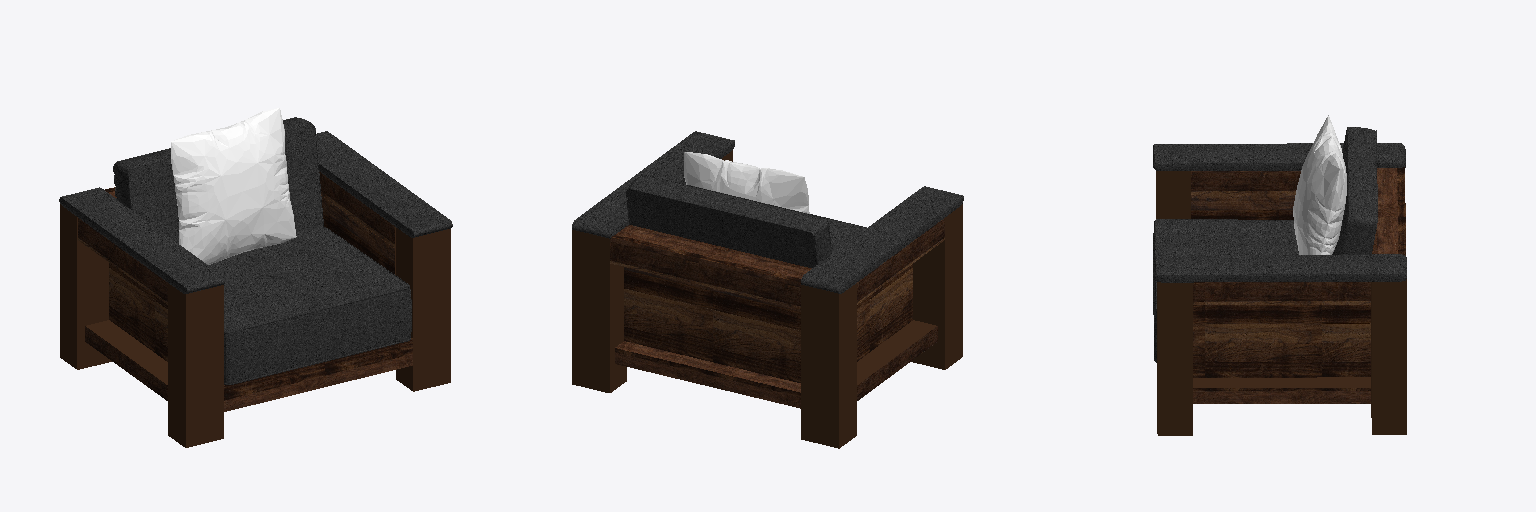
3 views of the same model, side by side, from view 1: azimuth 30°, elevation 25°; view 2: azimuth 150°, elevation 25°; view 3: azimuth 270°, elevation 25° (orthographic).
Parts seen in each view (by area): view 1: Mesh95_Cushion_Bottom_1_9_Group53_Group44_Group1_Model, Mesh99_Group55_Group44_Group1_Model, Mesh92_Group52_Group44_Group1_Model, Mesh89_Group50_Group44_Group1_Model, Mesh98_Cushion_Bottom_1_10_Group54_Group44_Group1_Model, Mesh84_Group46_Group45_Group44_Group1_Model, Mesh100_Group56_Group1_Model, Mesh83_Group43_Group1_Model, Mesh90_Group50_Group44_Group1_Model, Mesh88_Group51_Group50_Group44_Group1_Model, Mesh91_Group50_Group44_Group1_Model, Mesh87_Group49_Group45_Group44_Group1_Model (+1 smaller); view 2: Mesh92_Group52_Group44_Group1_Model, Mesh98_Cushion_Bottom_1_10_Group54_Group44_Group1_Model, Mesh100_Group56_Group1_Model, Mesh89_Group50_Group44_Group1_Model, Mesh99_Group55_Group44_Group1_Model, Mesh83_Group43_Group1_Model, Mesh90_Group50_Group44_Group1_Model, Mesh88_Group51_Group50_Group44_Group1_Model, Mesh91_Group50_Group44_Group1_Model, Mesh95_Cushion_Bottom_1_9_Group53_Group44_Group1_Model; view 3: Mesh87_Group49_Group45_Group44_Group1_Model, Mesh92_Group52_Group44_Group1_Model, Mesh83_Group43_Group1_Model, Mesh84_Group46_Group45_Group44_Group1_Model, Mesh99_Group55_Group44_Group1_Model, Mesh95_Cushion_Bottom_1_9_Group53_Group44_Group1_Model, Mesh100_Group56_Group1_Model, Mesh85_Group47_Group45_Group44_Group1_Model, Mesh86_Group48_Group45_Group44_Group1_Model, Mesh98_Cushion_Bottom_1_10_Group54_Group44_Group1_Model, Mesh90_Group50_Group44_Group1_Model, Mesh91_Group50_Group44_Group1_Model (+1 smaller).
Boxes of the visible parts, x1,y1,x2,y2 form: Mesh95_Cushion_Bottom_1_9_Group53_Group44_Group1_Model: [208, 227, 411, 383]; Mesh99_Group55_Group44_Group1_Model: [171, 108, 296, 264]; Mesh92_Group52_Group44_Group1_Model: [60, 187, 412, 411]; Mesh89_Group50_Group44_Group1_Model: [168, 283, 223, 447]; Mesh98_Cushion_Bottom_1_10_Group54_Group44_Group1_Model: [114, 118, 322, 243]; Mesh84_Group46_Group45_Group44_Group1_Model: [396, 228, 450, 391]; Mesh100_Group56_Group1_Model: [59, 187, 224, 293]; Mesh83_Group43_Group1_Model: [316, 131, 452, 237]; Mesh90_Group50_Group44_Group1_Model: [109, 263, 167, 361]; Mesh88_Group51_Group50_Group44_Group1_Model: [85, 320, 167, 400]; Mesh91_Group50_Group44_Group1_Model: [78, 218, 167, 304]; Mesh87_Group49_Group45_Group44_Group1_Model: [321, 195, 395, 274]; Mesh92_Group52_Group44_Group1_Model: [572, 225, 856, 448]; Mesh98_Cushion_Bottom_1_10_Group54_Group44_Group1_Model: [626, 175, 830, 267]; Mesh100_Group56_Group1_Model: [801, 186, 963, 293]; Mesh89_Group50_Group44_Group1_Model: [911, 204, 962, 369]; Mesh99_Group55_Group44_Group1_Model: [684, 152, 809, 213]; Mesh83_Group43_Group1_Model: [572, 131, 734, 238]; Mesh90_Group50_Group44_Group1_Model: [857, 264, 912, 361]; Mesh88_Group51_Group50_Group44_Group1_Model: [857, 320, 937, 400]; Mesh91_Group50_Group44_Group1_Model: [857, 218, 944, 304]; Mesh95_Cushion_Bottom_1_9_Group53_Group44_Group1_Model: [826, 218, 865, 253]; Mesh87_Group49_Group45_Group44_Group1_Model: [1193, 305, 1370, 377]; Mesh92_Group52_Group44_Group1_Model: [1371, 167, 1406, 434]; Mesh83_Group43_Group1_Model: [1154, 254, 1406, 282]; Mesh84_Group46_Group45_Group44_Group1_Model: [1157, 282, 1192, 435]; Mesh99_Group55_Group44_Group1_Model: [1293, 115, 1346, 254]; Mesh95_Cushion_Bottom_1_9_Group53_Group44_Group1_Model: [1153, 219, 1298, 360]; Mesh100_Group56_Group1_Model: [1153, 143, 1405, 170]; Mesh85_Group47_Group45_Group44_Group1_Model: [1193, 377, 1370, 403]; Mesh86_Group48_Group45_Group44_Group1_Model: [1193, 282, 1370, 304]; Mesh98_Cushion_Bottom_1_10_Group54_Group44_Group1_Model: [1332, 127, 1376, 254]; Mesh90_Group50_Group44_Group1_Model: [1191, 194, 1295, 219]; Mesh91_Group50_Group44_Group1_Model: [1191, 171, 1300, 193].
Size of the model in its own units: 17.44 by 14.14 by 14.26.
Materials: 4 (2 with a texture image).